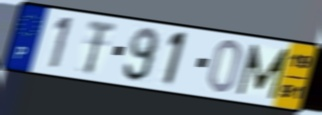0: (205, 38, 244, 95)
1: (47, 16, 76, 71), (163, 31, 190, 89)
9: (121, 25, 161, 84)
M: (235, 42, 292, 101)
T: (82, 18, 119, 76)
